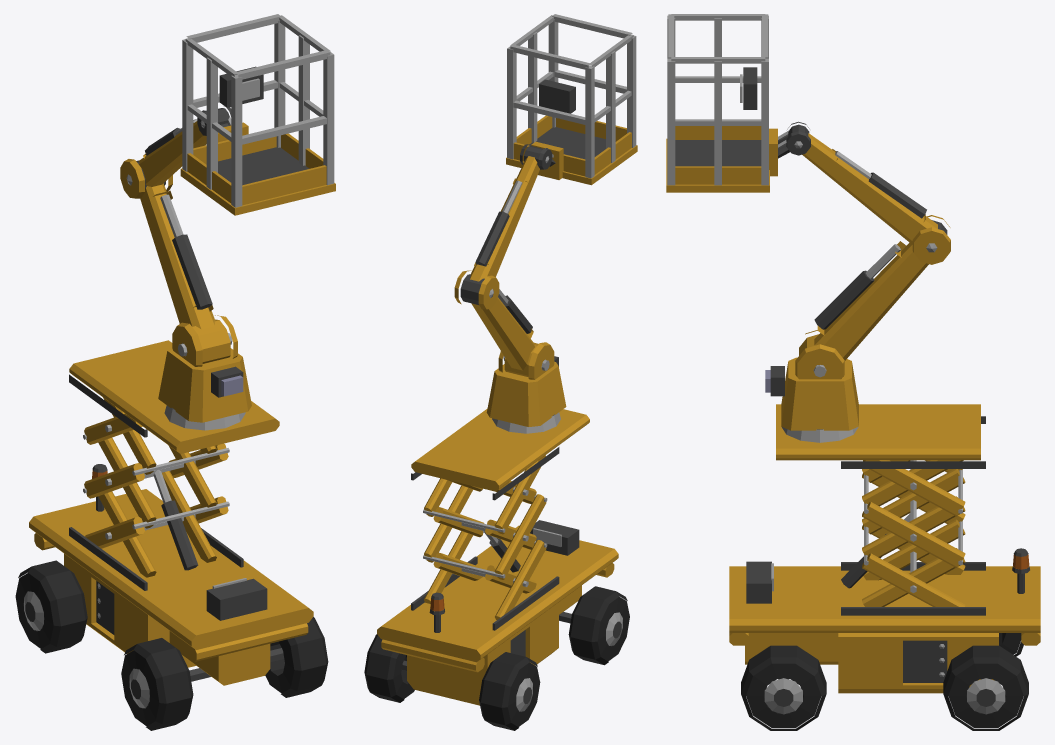
Rendered from cherry-picker-38c4af.glb.
3 renders of one model, left to right at view 1: azimuth 30°, elevation 25°; view 2: azimuth 150°, elevation 25°; view 3: azimuth 270°, elevation 25°, orthographic. The views are drawn at different scales.
Parts seen in each view (by area): view 1: chassis, basket, turret, riser, wheel-fr-mesh, wheel-rr-mesh, wheel-fl-mesh, upper-boom; view 2: chassis, basket, turret, wheel-rr-mesh, wheel-fr-mesh, upper-boom, riser, wheel-rl-mesh; view 3: chassis, basket, riser, turret, wheel-rl-mesh, wheel-fl-mesh, upper-boom, boom-head.
Part boxes in pixels (x1,y1,x2,y2): chassis: [29, 340, 313, 685]; basket: [180, 14, 335, 215]; turret: [158, 315, 251, 430]; riser: [120, 159, 230, 363]; wheel-fr-mesh: [121, 638, 193, 730]; wheel-rr-mesh: [15, 560, 87, 653]; wheel-fl-mesh: [265, 617, 328, 697]; upper-boom: [136, 108, 229, 189]; chassis: [377, 408, 618, 705]; basket: [506, 14, 637, 185]; turret: [486, 342, 566, 433]; wheel-rr-mesh: [479, 652, 540, 730]; wheel-fr-mesh: [568, 586, 629, 665]; upper-boom: [460, 146, 542, 304]; riser: [454, 270, 538, 377]; wheel-rl-mesh: [364, 634, 414, 702]; chassis: [729, 404, 1040, 693]; basket: [666, 14, 777, 192]; riser: [799, 215, 950, 360]; turret: [765, 330, 858, 442]; wheel-rl-mesh: [943, 645, 1028, 730]; wheel-fl-mesh: [741, 645, 826, 730]; upper-boom: [788, 124, 947, 244]; boom-head: [778, 121, 810, 158].
Bounding box in the file's own units: 1.5 × 5.6 × 2.89.
